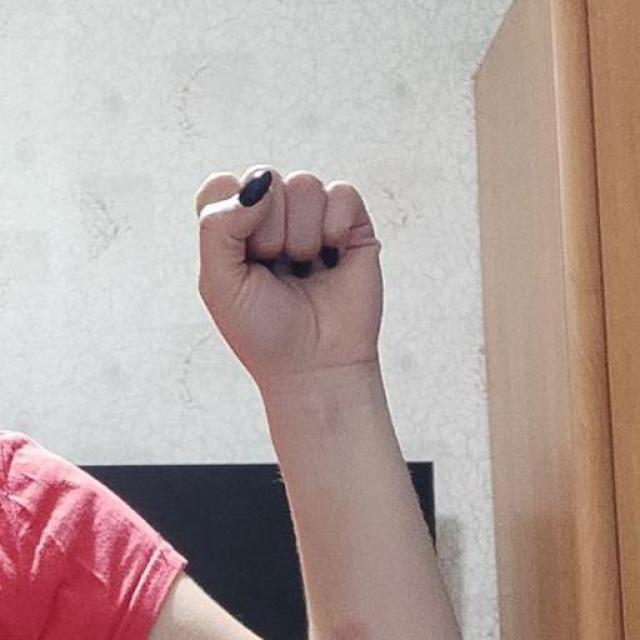hand: (195, 164, 386, 384)
